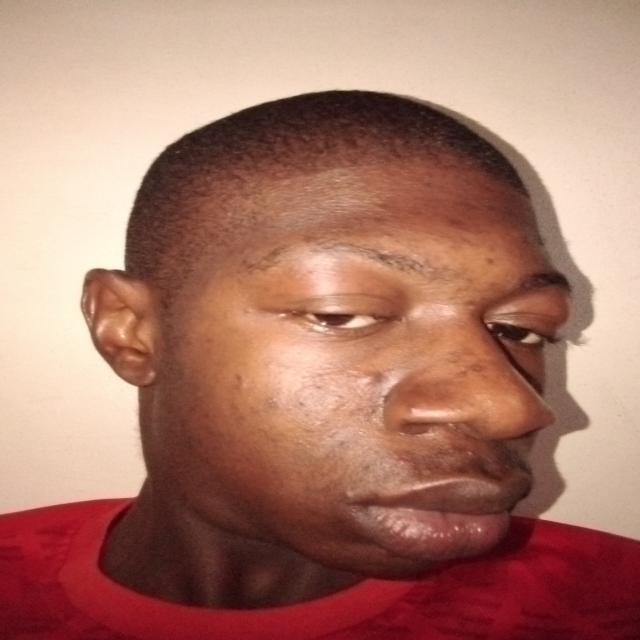Acne: (430, 234, 476, 252), (437, 213, 474, 234), (366, 197, 390, 224), (443, 346, 477, 365), (356, 369, 386, 390), (452, 364, 485, 379), (463, 275, 503, 287), (391, 450, 417, 467), (338, 486, 361, 502), (232, 372, 248, 390), (459, 294, 476, 310), (264, 394, 279, 412), (357, 461, 375, 475), (419, 178, 435, 190), (483, 257, 500, 267), (382, 231, 398, 241), (467, 449, 482, 458), (240, 306, 256, 314)
Blackheads: (341, 394, 381, 422), (292, 384, 328, 410), (320, 426, 349, 449)
